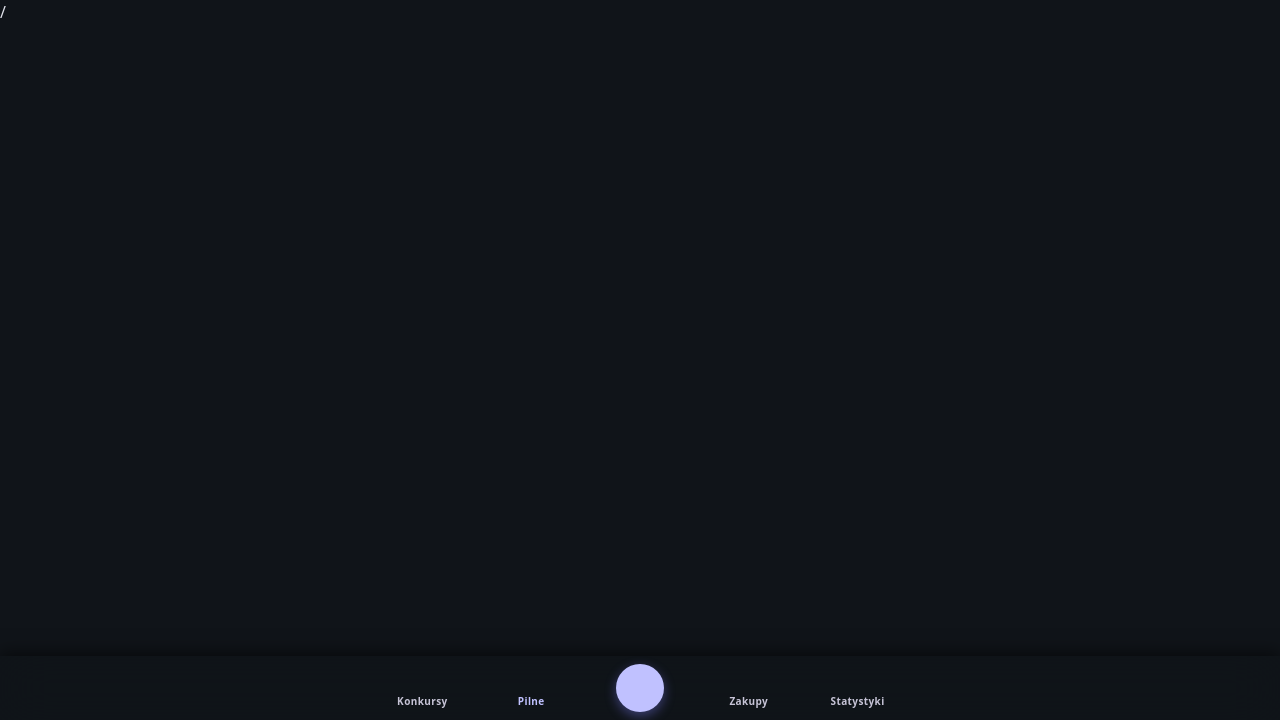
BottomNav › picker navigates with ?zgloszenie=1
Click the button named "Dodaj konkurs lub zgłoszenie": point(640, 688) x1=616 y1=664 x2=664 y2=712
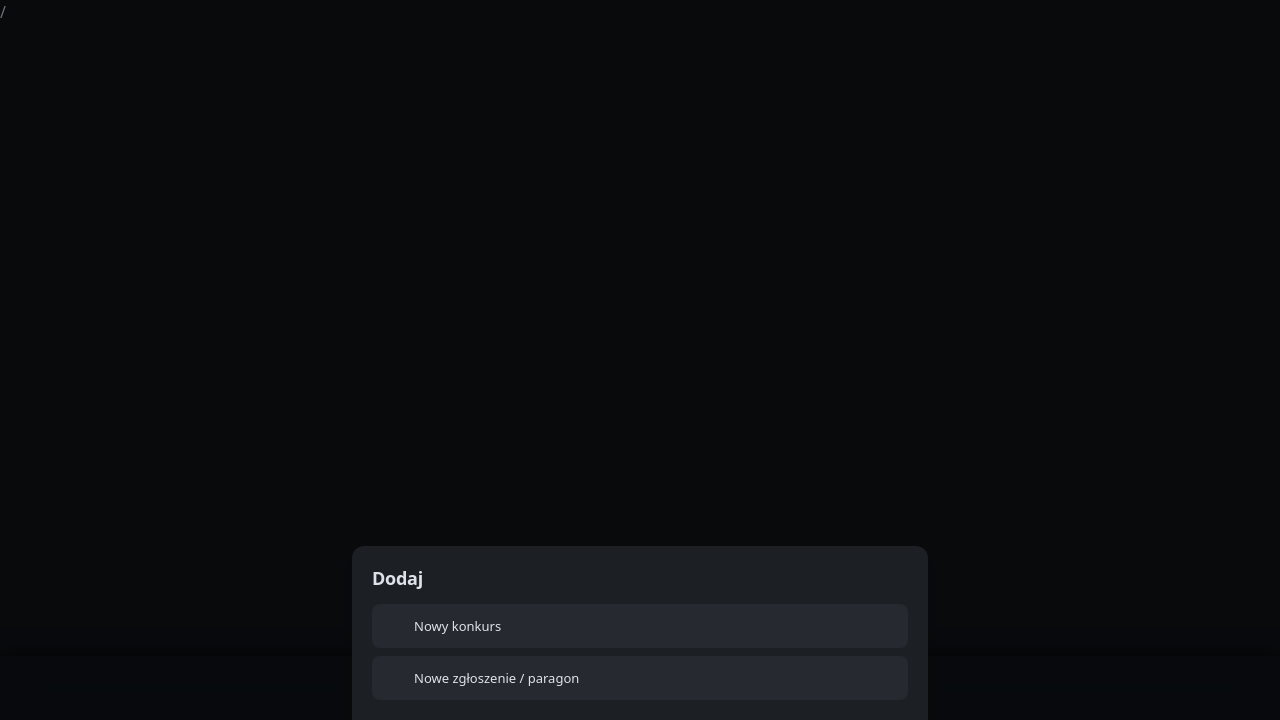
Click the button "Nowe zgłoszenie / paragon": point(497, 678) x1=372 y1=656 x2=908 y2=700
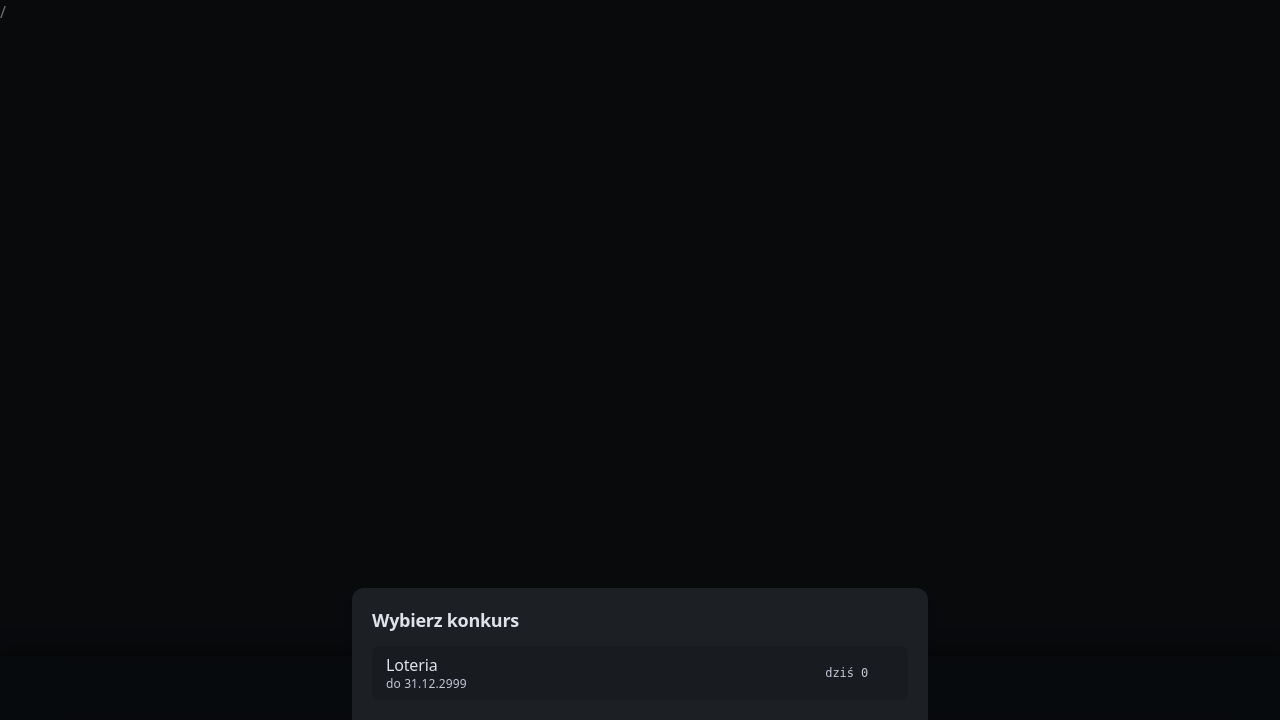
Click the button "Loteria do 31.12.2999 dziś 0": point(412, 665) x1=372 y1=646 x2=908 y2=700
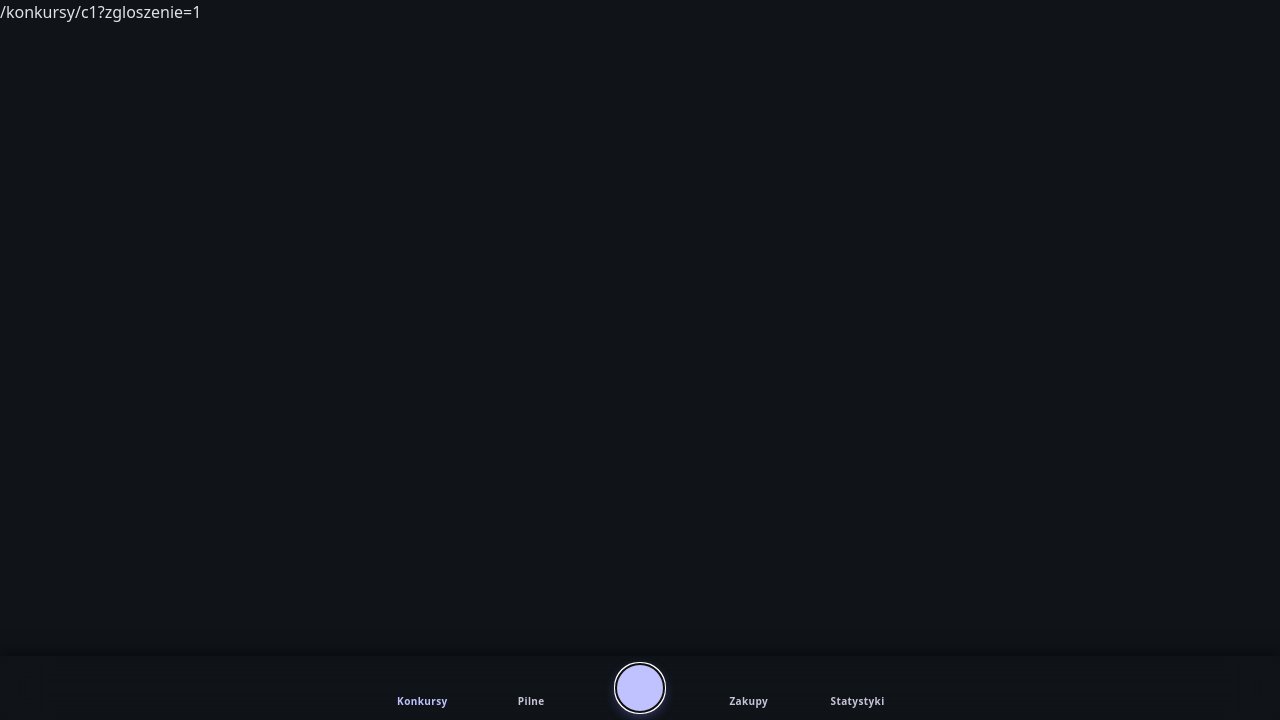
Expected: the text with test id "location" reads "/konkursy/c1?zgloszenie=1", x1=0 y1=1 x2=201 y2=23
Expected: the dialog is gone
